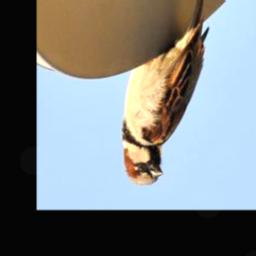Swallow: (119, 0, 208, 186)
